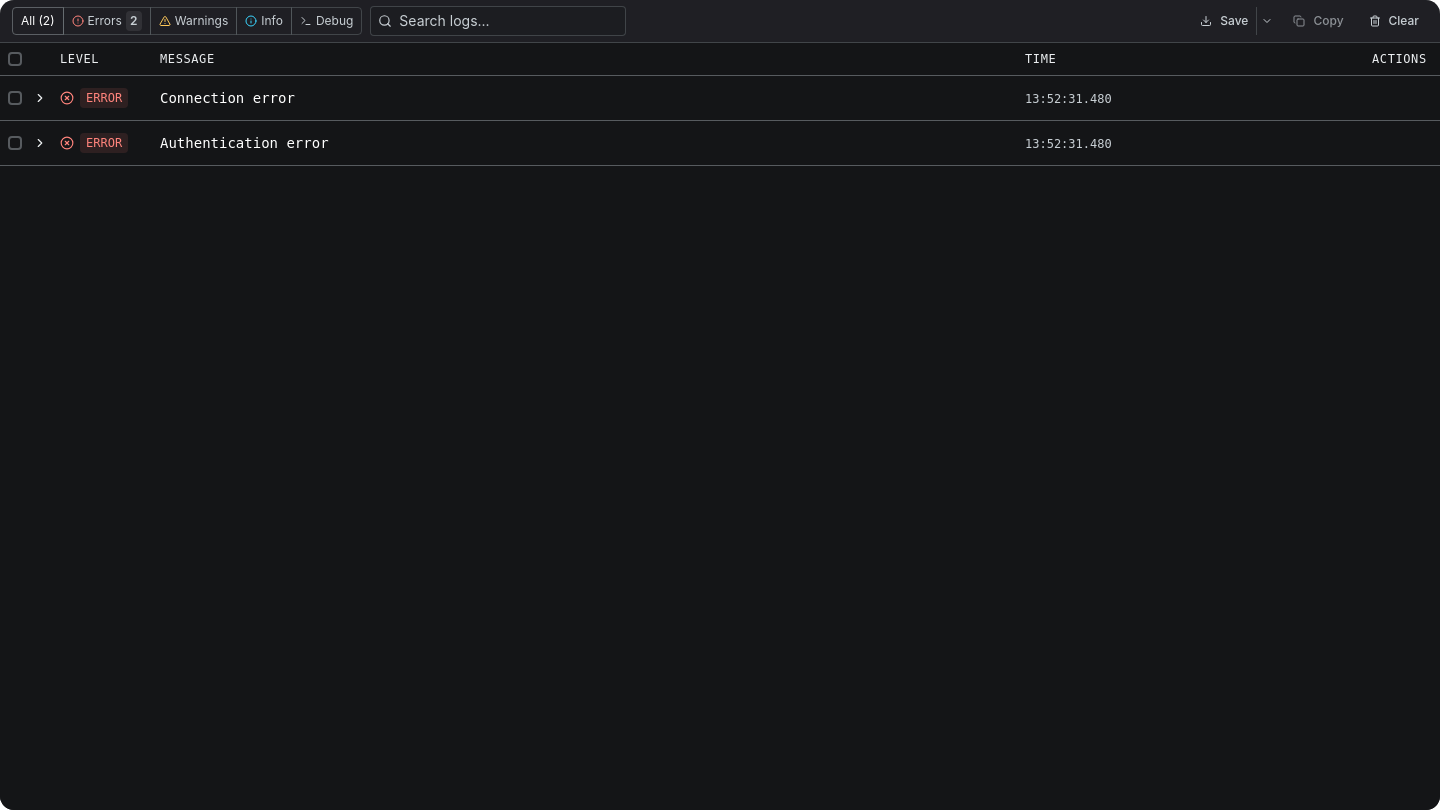
Test: ConsolePanel › filters logs by full-text search in args
Expected: the row with test id "console-log-row-conn-error" is shown, [0,76,1439,120]
Expected: the row with test id "console-log-row-auth-error" is shown, [0,120,1439,166]
Type "timeout" into the field with test id "console-search-input" at (498, 21), box [370,6,626,36]
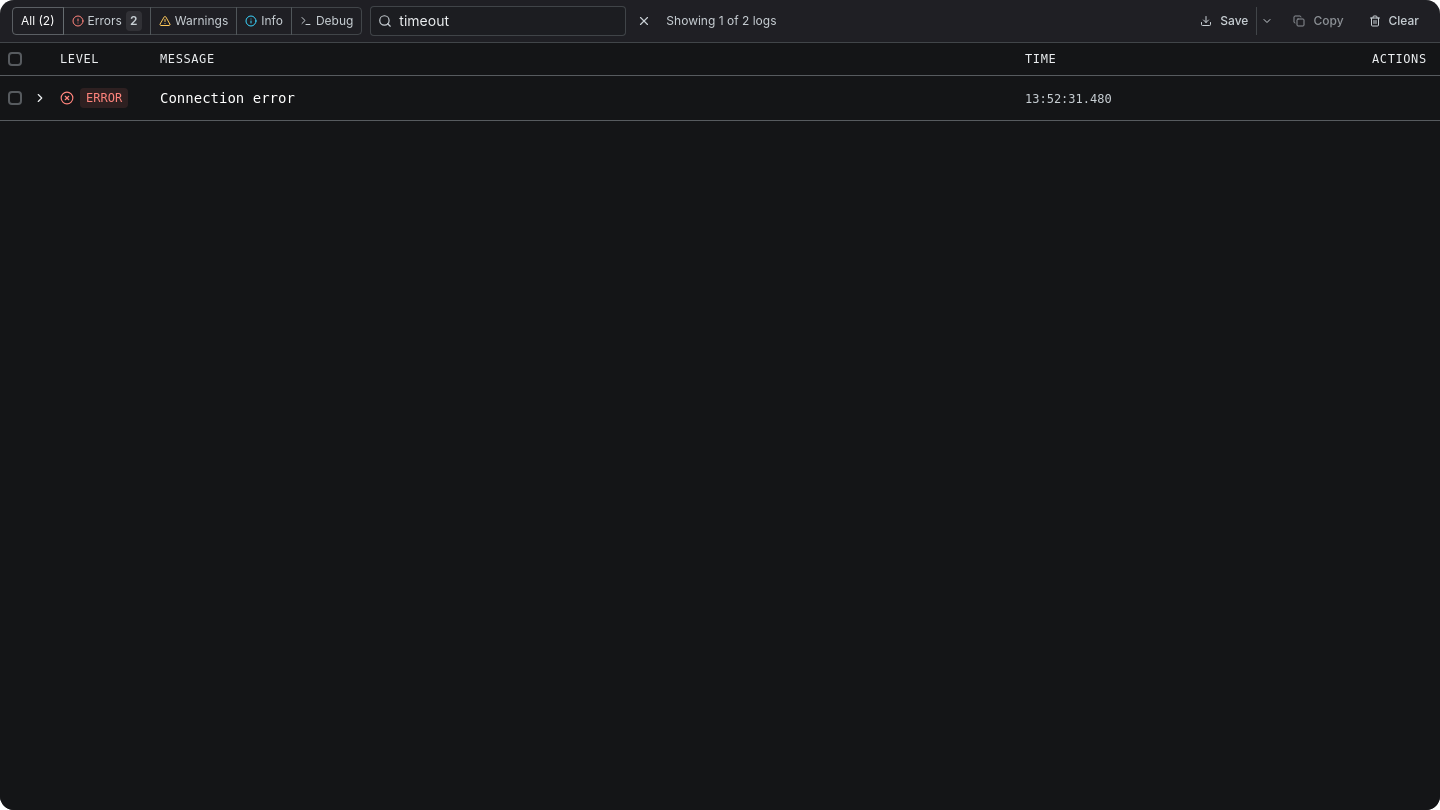
Expected: the row with test id "console-log-row-conn-error" is shown, [0,76,1439,120]
Now the row with test id "console-log-row-auth-error" is gone
